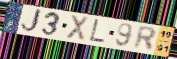3: (40, 11, 63, 37)
9: (115, 23, 135, 48)
J: (19, 8, 44, 35)
L: (88, 19, 106, 45)
R: (133, 24, 158, 53)
X: (64, 13, 91, 43)
